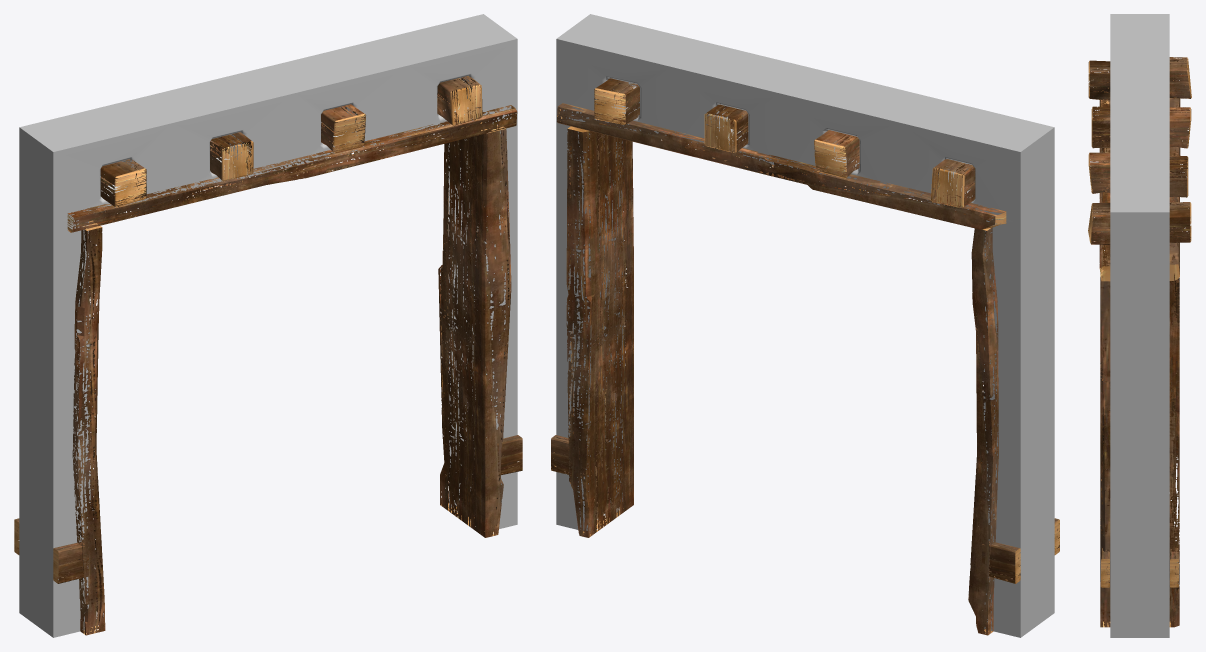
3 renders of one model, left to right at view 1: azimuth 30°, elevation 25°; view 2: azimuth 150°, elevation 25°; view 3: azimuth 270°, elevation 25°, orthographic. The views are drawn at different scales.
Visible parts, largest first — view 1: SM_BB_T4_Wall_Doorframe_Double_LOD0; view 2: SM_BB_T4_Wall_Doorframe_Double_LOD0; view 3: SM_BB_T4_Wall_Doorframe_Double_LOD0.
Boxes of the visible parts, x1,y1,x2,y2 form: SM_BB_T4_Wall_Doorframe_Double_LOD0: [14, 14, 522, 637]; SM_BB_T4_Wall_Doorframe_Double_LOD0: [551, 14, 1059, 637]; SM_BB_T4_Wall_Doorframe_Double_LOD0: [1088, 14, 1191, 637].
Size of the model in its own units: 3 by 3 by 0.6636.
